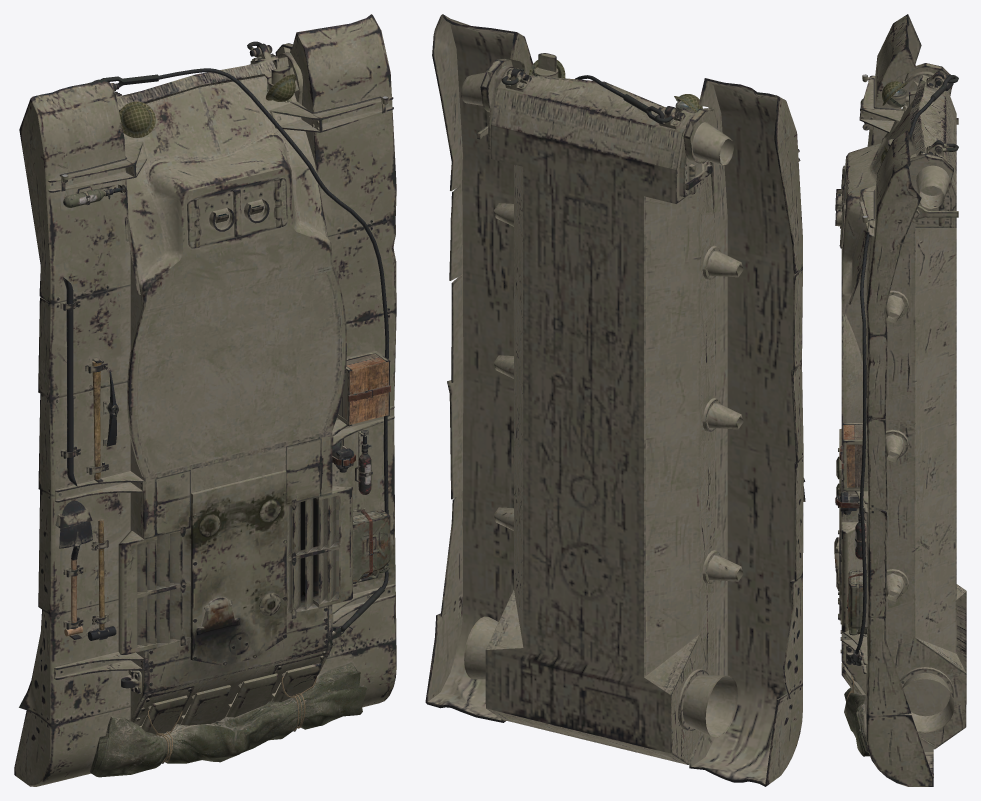
The model's file is Hull.glb.
3 views of the same model, side by side, from view 1: azimuth 30°, elevation 25°; view 2: azimuth 150°, elevation 25°; view 3: azimuth 270°, elevation 25° (orthographic). The views are drawn at different scales.
Visible parts, largest first — view 1: set_0_group_0; view 2: set_0_group_0; view 3: set_0_group_0.
Part boxes in pixels (x1,y1,x2,y2): set_0_group_0: (14,14,396,786); set_0_group_0: (425,14,805,786); set_0_group_0: (834,14,966,786).
Size of the model in its own units: 2.93 by 5.4 by 1.03.
Materials: 1 (1 with a texture image).
